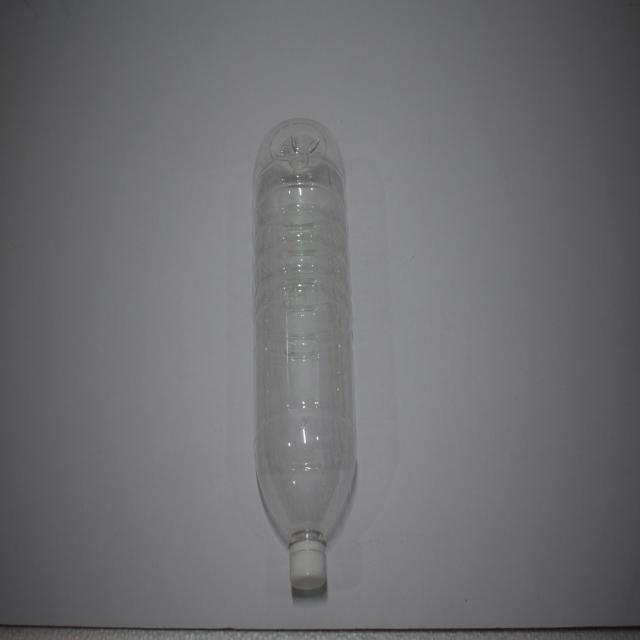bottle: (214, 101, 380, 622)
